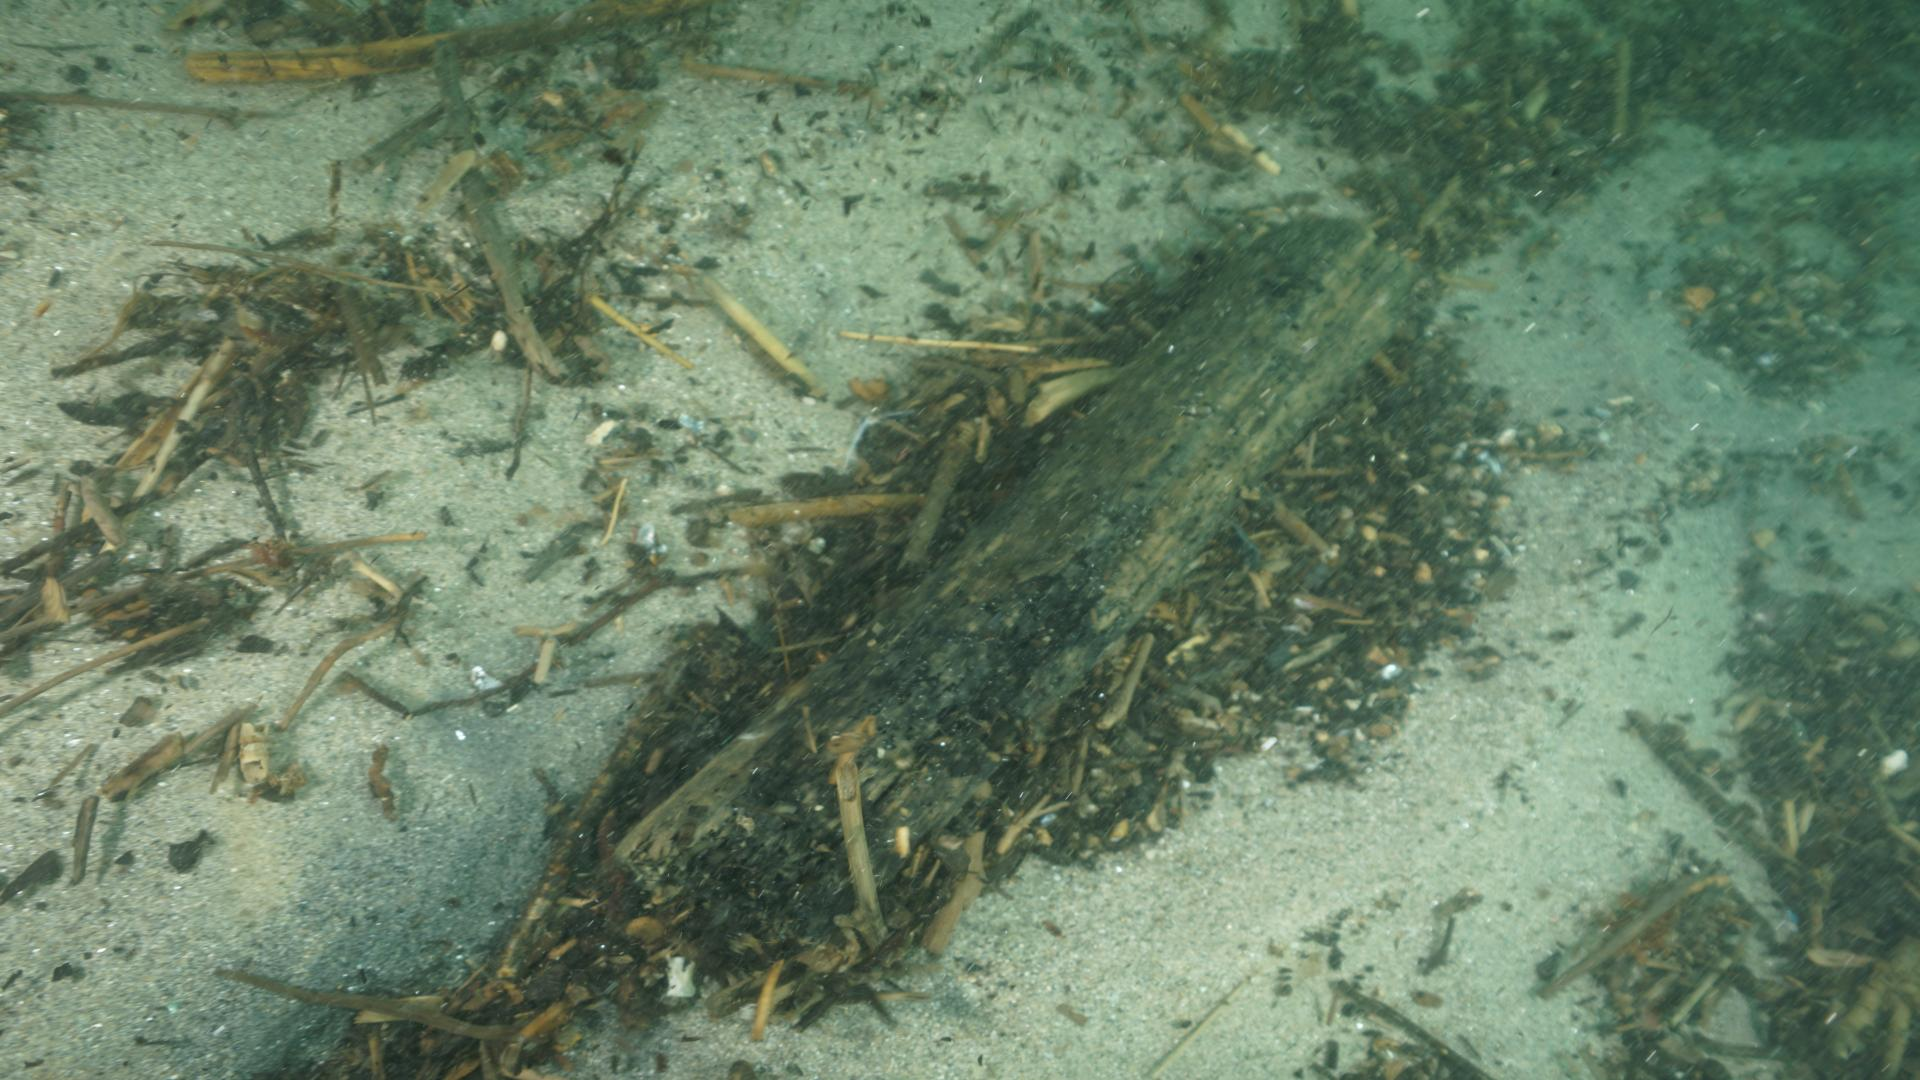wood: (611, 206, 1443, 960)
